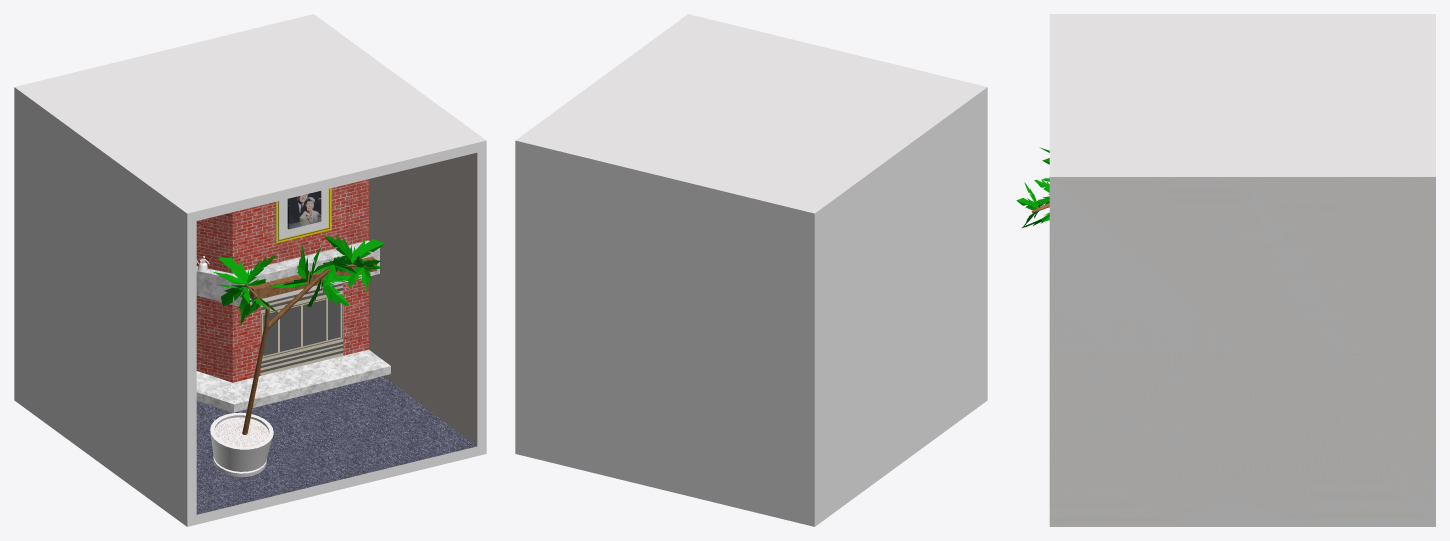
File: environment1.gltf
3 renders of one model, left to right at view 1: azimuth 30°, elevation 25°; view 2: azimuth 150°, elevation 25°; view 3: azimuth 270°, elevation 25°, orthographic. The views are drawn at different scales.
Visible parts, largest first — view 1: group_0.003, group_0.011, group_0.008, group_0.015, group_0.004, group_0, group_0.002, group_0.043, group_0.001, group_14, group_14.007, group_0.036 (+7 smaller); view 2: group_0.003, SketchUp; view 3: group_0.005, group_0.003.
Part boxes in pixels (bbox=[...]): group_0.003: bbox=[14, 14, 486, 526]; group_0.011: bbox=[369, 152, 477, 445]; group_0.008: bbox=[196, 376, 476, 514]; group_0.015: bbox=[196, 179, 368, 273]; group_0.004: bbox=[196, 295, 260, 382]; group_0: bbox=[196, 349, 390, 412]; group_0.002: bbox=[196, 240, 379, 306]; group_0.043: bbox=[196, 356, 375, 412]; group_0.001: bbox=[343, 278, 368, 355]; group_14: bbox=[210, 412, 273, 471]; group_14.007: bbox=[214, 417, 269, 447]; group_0.036: bbox=[287, 191, 321, 229]; group_0.003: bbox=[515, 14, 987, 526]; SketchUp: bbox=[515, 140, 814, 526]; group_0.005: bbox=[1049, 177, 1435, 526]; group_0.003: bbox=[1049, 14, 1435, 176].
Bounding box in the file's own units: 6.5 × 6.5 × 7.07.
Materials: 17 (7 with a texture image).
